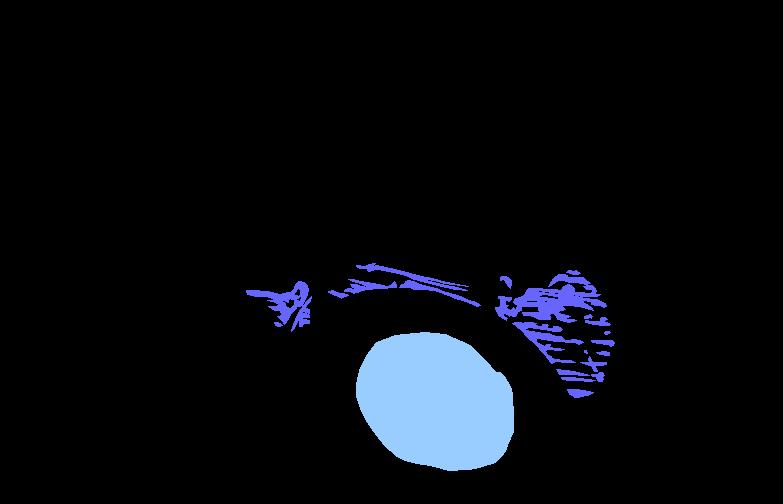Corrosion: (356, 332, 513, 470)
Scratch: (512, 322, 583, 363), (511, 284, 585, 322), (367, 265, 468, 290), (399, 280, 480, 306), (246, 281, 308, 307), (536, 292, 606, 307), (267, 299, 298, 324), (291, 296, 311, 331), (521, 302, 593, 310), (532, 288, 600, 296), (348, 279, 396, 290), (548, 274, 590, 286), (495, 296, 514, 320), (567, 389, 593, 397), (585, 317, 610, 325), (556, 369, 589, 375), (328, 290, 348, 298), (591, 340, 614, 346), (561, 377, 595, 381), (588, 356, 597, 371), (500, 276, 511, 288), (591, 372, 604, 381), (583, 285, 596, 293), (356, 263, 375, 268), (344, 288, 361, 293), (580, 362, 606, 365), (566, 270, 580, 274), (596, 351, 609, 355), (274, 322, 282, 326), (584, 314, 592, 318), (604, 331, 610, 334), (584, 350, 587, 353)
